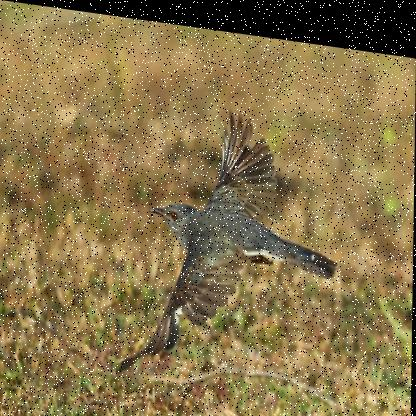Burung: (116, 90, 341, 393)
